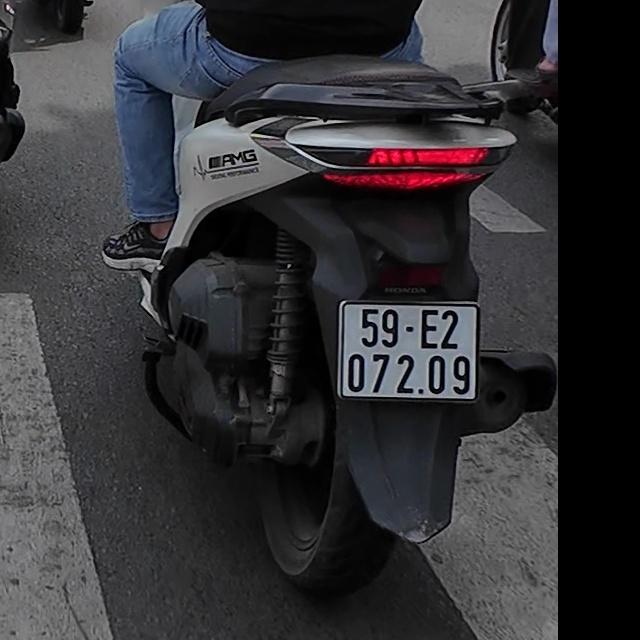license-plate: (335, 300, 479, 405)
